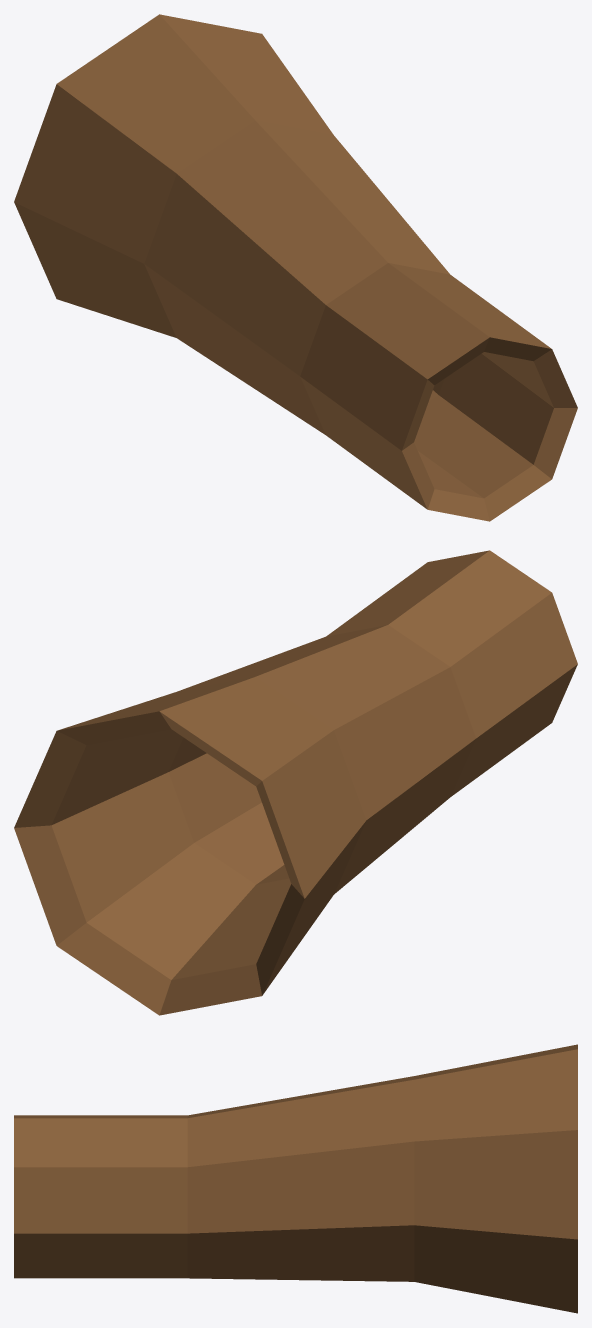
File: Log.fbx
3 renders of one model, top to bottom at view 1: azimuth 30°, elevation 25°; view 2: azimuth 150°, elevation 25°; view 3: azimuth 270°, elevation 25°, orthographic. The views are drawn at different scales.
Parts seen in each view (by area): view 1: Cylinder.009; view 2: Cylinder.009; view 3: Cylinder.009.
Part boxes in pixels (x1,y1,x2,y2): Cylinder.009: [14, 14, 577, 521]; Cylinder.009: [14, 550, 577, 1015]; Cylinder.009: [14, 1044, 577, 1313].
Bounding box in the file's own units: 121 × 121 × 238.
